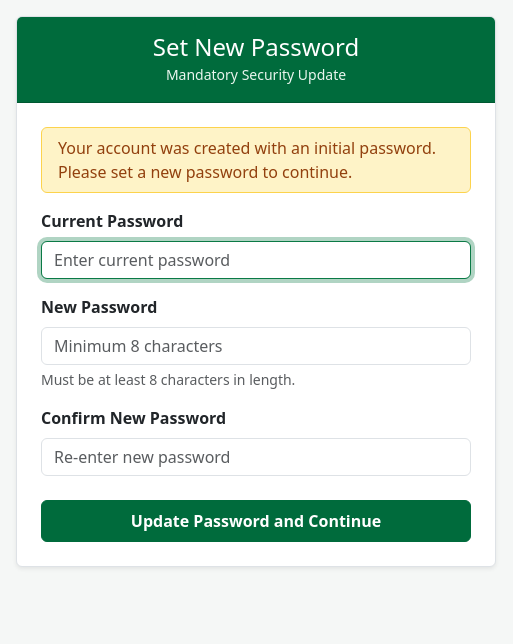
Test: UI-PASS-01: Change Password Component › submits valid password change and displays success feedback
Step 1. Type "Password123!" into the password field labelled "Current Password" → (256, 260), box [41,241,471,279]
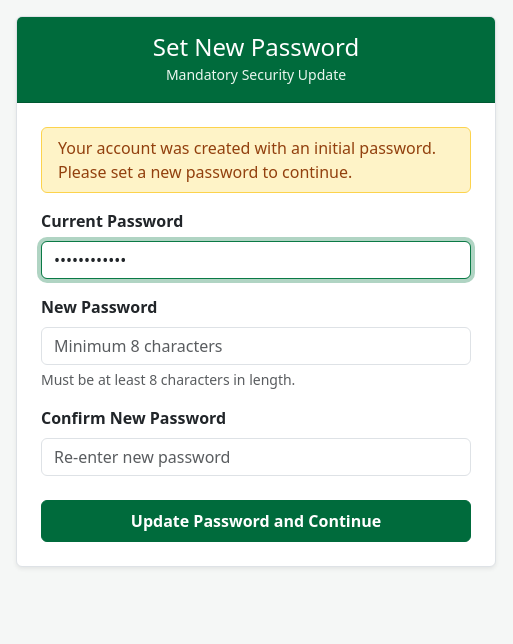
Step 2. Type "FreshPassword2026!" into the password field labelled "New Password" → (256, 346), box [41,327,471,365]
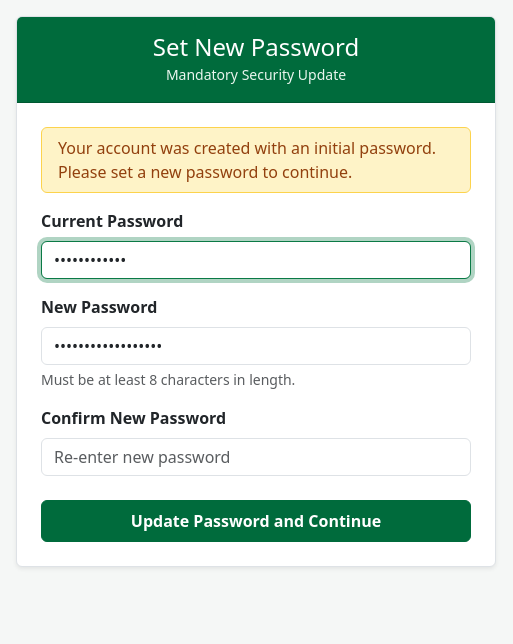
Step 3. Type "FreshPassword2026!" into the password field labelled "Confirm New Password" → (256, 457), box [41,438,471,476]
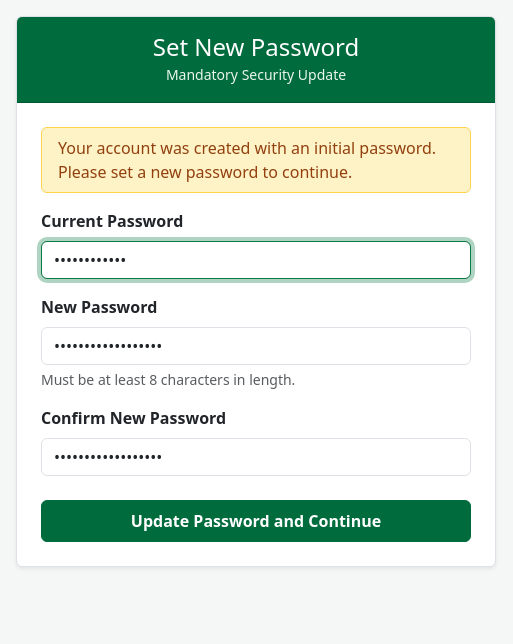
Step 4. Click the button "Update Password and Continue" → (256, 521), box [41,500,471,542]
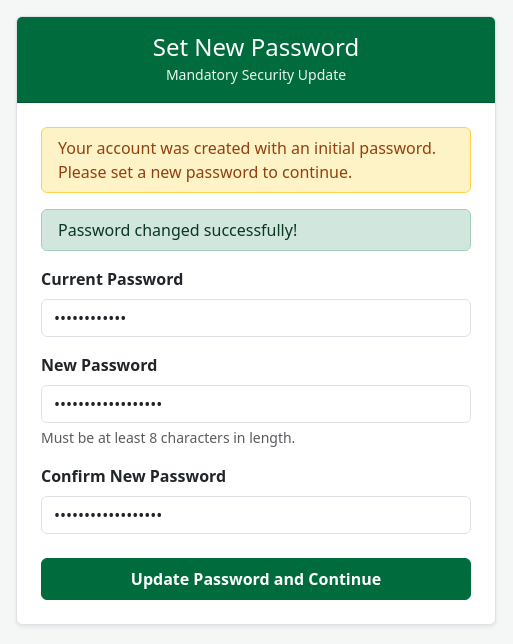
Check: the text "Password changed successfully!" is shown, box [41,209,471,251]
